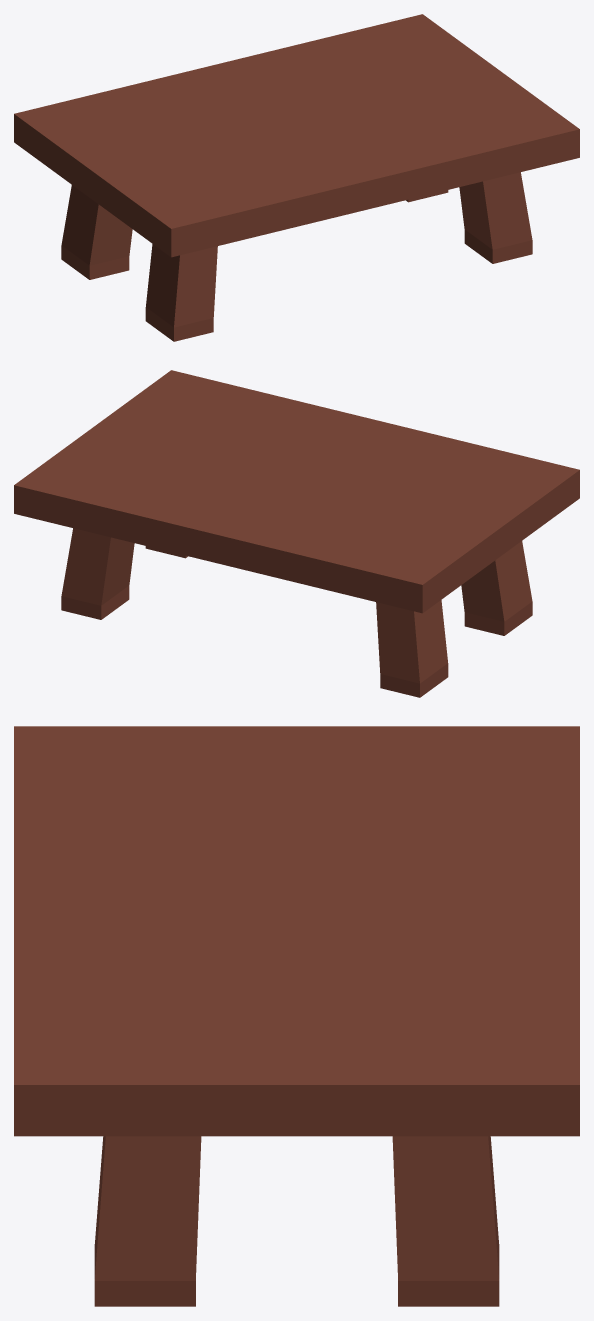
File: Table.fbx
3 views of the same model, one above another, from view 1: azimuth 30°, elevation 25°; view 2: azimuth 150°, elevation 25°; view 3: azimuth 270°, elevation 25° (orthographic). The views are drawn at different scales.
Parts seen in each view (by area): view 1: Cube; view 2: Cube; view 3: Cube.
Boxes of the visible parts, box(x1,y1,x2,y2) form: Cube: box(14, 14, 579, 341); Cube: box(14, 370, 579, 697); Cube: box(14, 726, 579, 1306).
Size of the model in its own units: 600 by 190 by 400.
